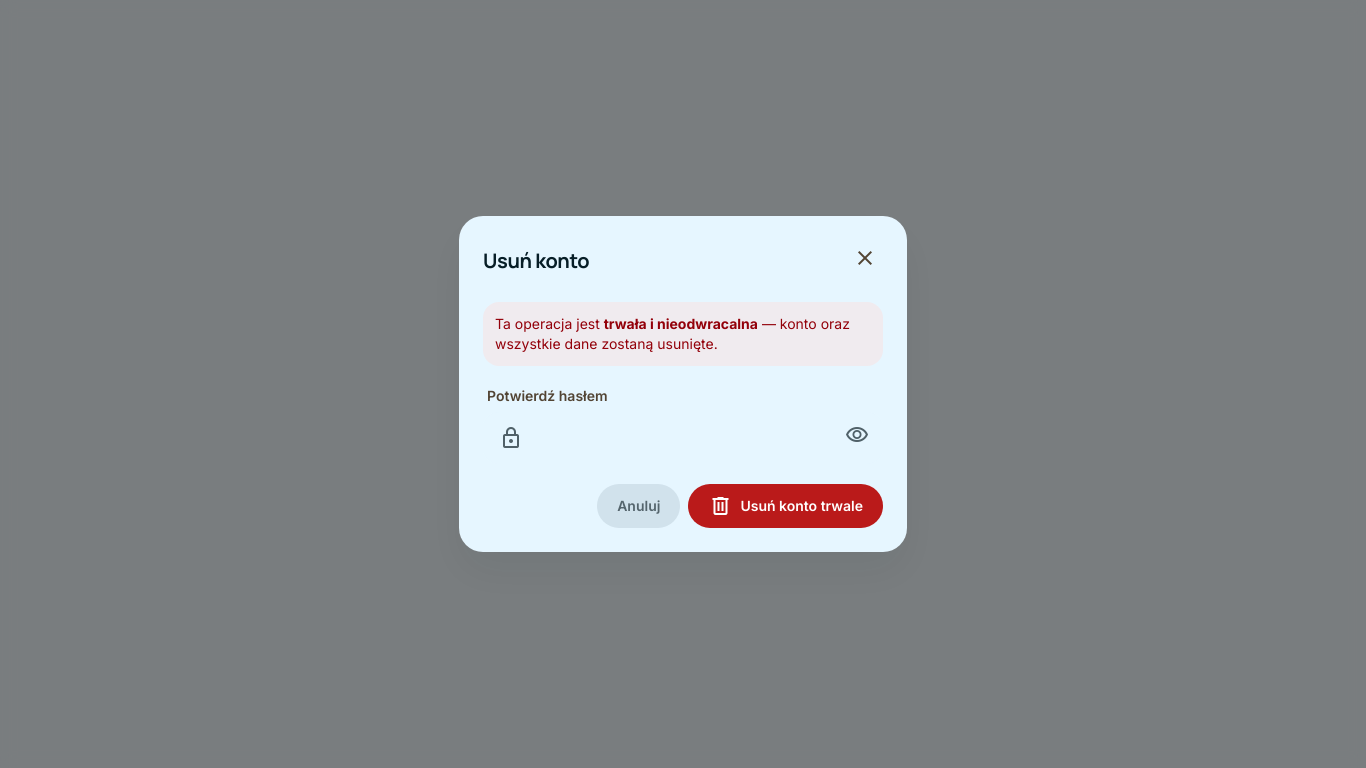
Test: DeleteAccountDialog › 401 INVALID_PASSWORD → błąd pod polem hasła, sesja nietknięta
The width and height of the screenshot is (1366, 768).
Type "haslo123" into the password field labelled "Potwierdź hasłem" at coordinates (683, 438), box [483,412,883,464]
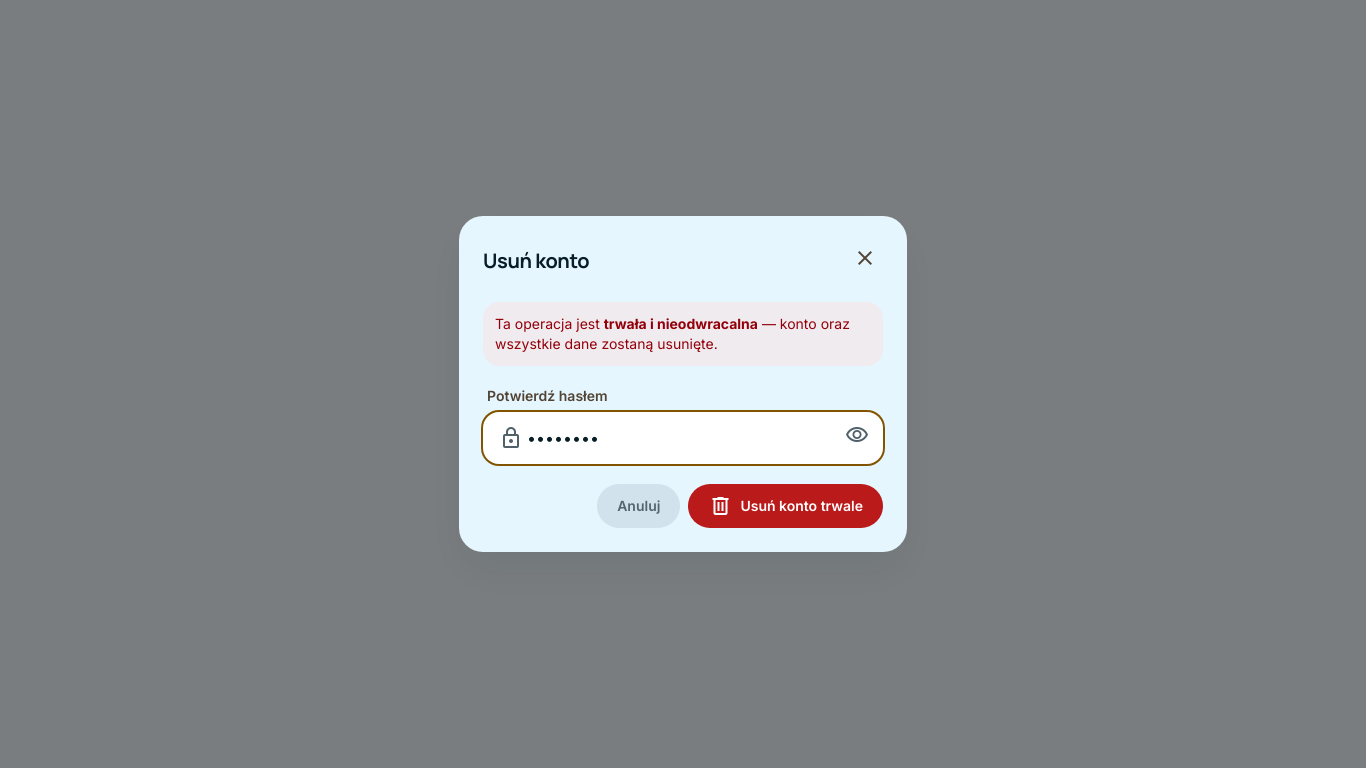
Click the button "Usuń konto trwale" at coordinates (786, 506), box [688,484,883,528]
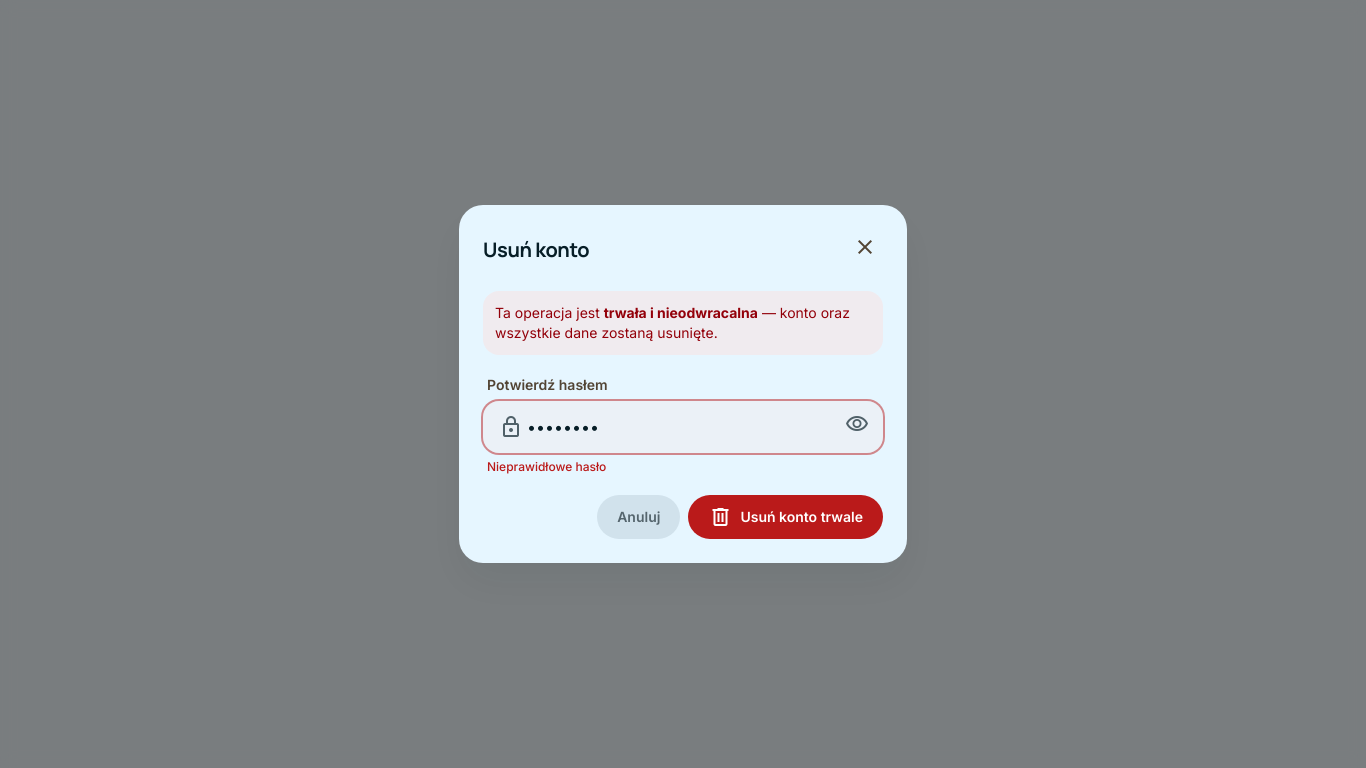
Expected: the text "Nieprawidłowe hasło" is shown, [487,459,606,474]
